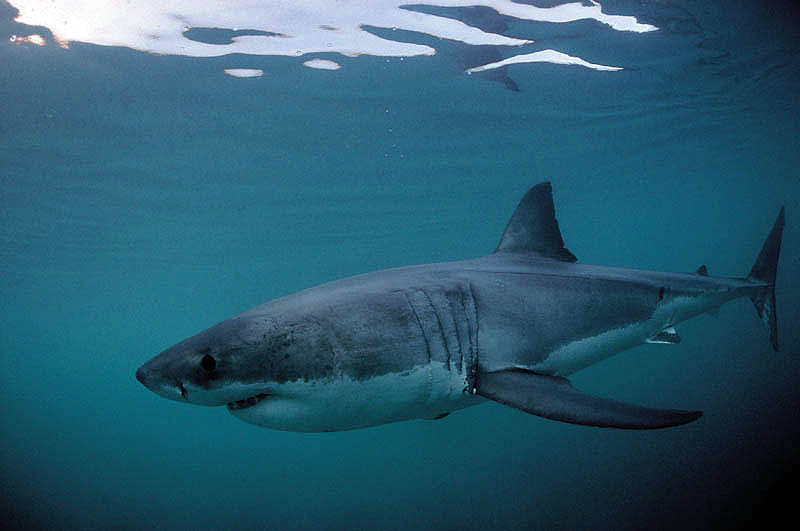Carcharodon_carcharias: (130, 174, 794, 476)
